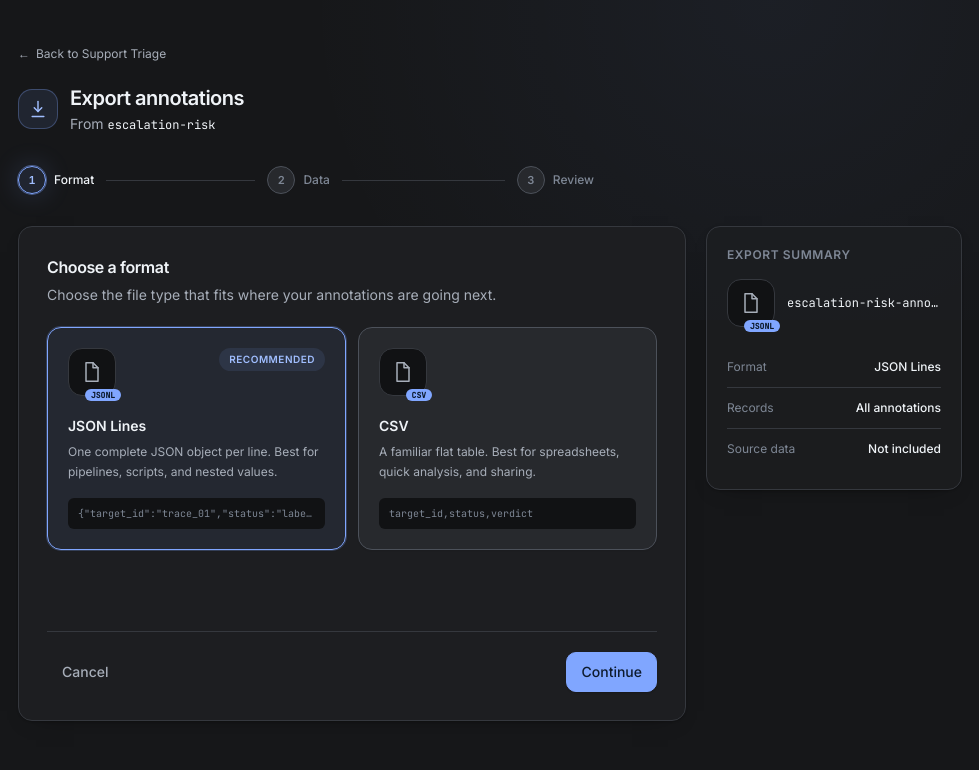
Test: ExportWizard › sends the reviewed choices and starts a named download
The width and height of the screenshot is (979, 770).
Expected: the heading "Export annotations" is shown, [70,84,244,112]
Click the radio button labelled "csv": (403, 372) [358,327,657,550]
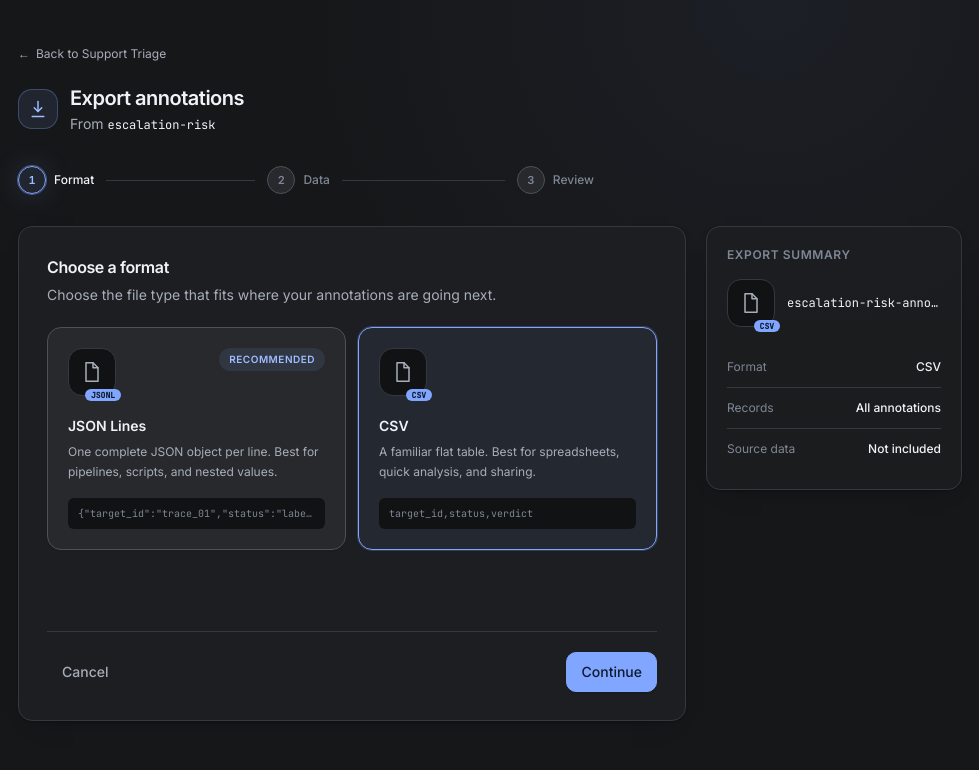
Click the button "Continue": (612, 672) [566,652,657,692]
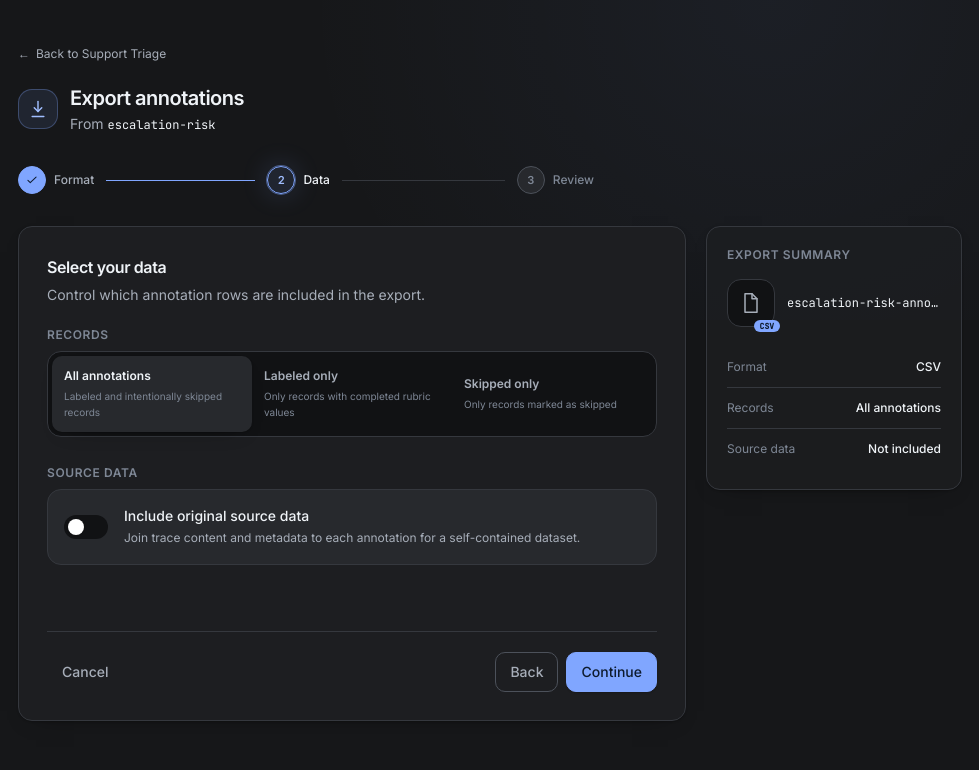
Click the radio button labelled "Labeled only Only records with completed rubric values": (352, 394) [252,356,452,432]
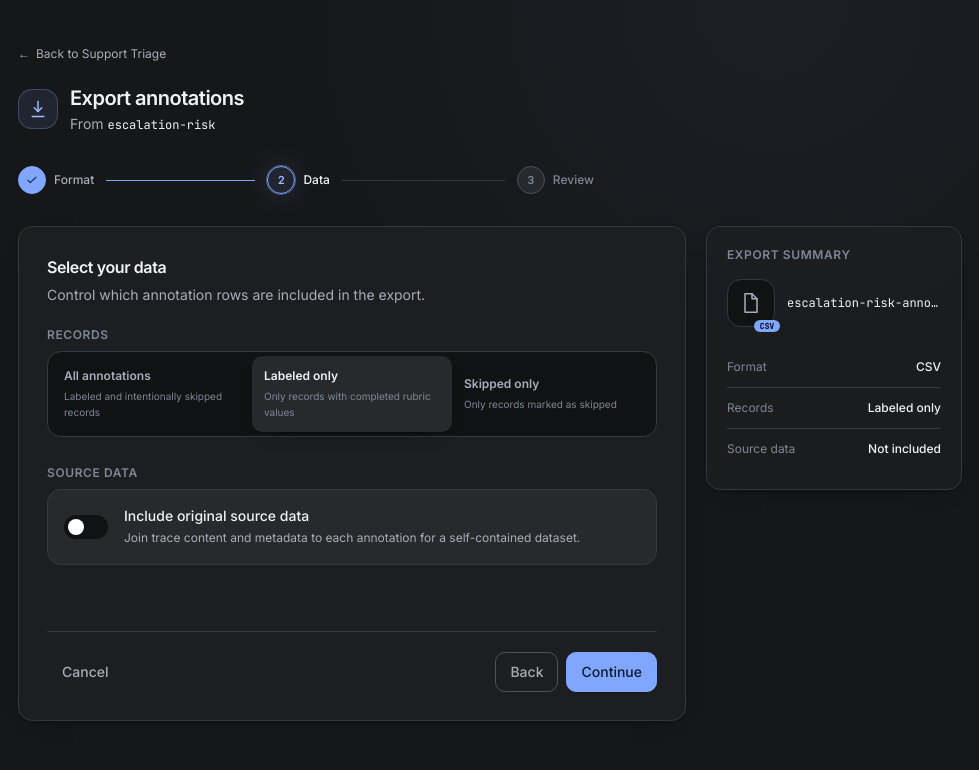
Click the switch labelled "Include original source data": (352, 527) [47,489,657,565]
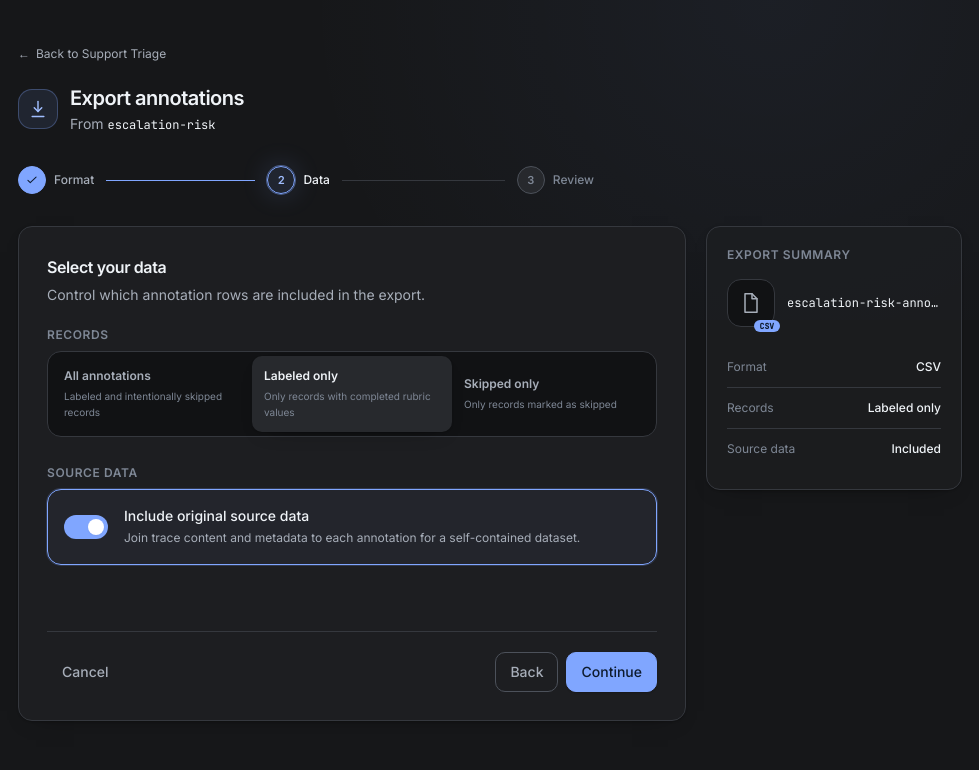
Click the button "Continue": (612, 672) [566,652,657,692]
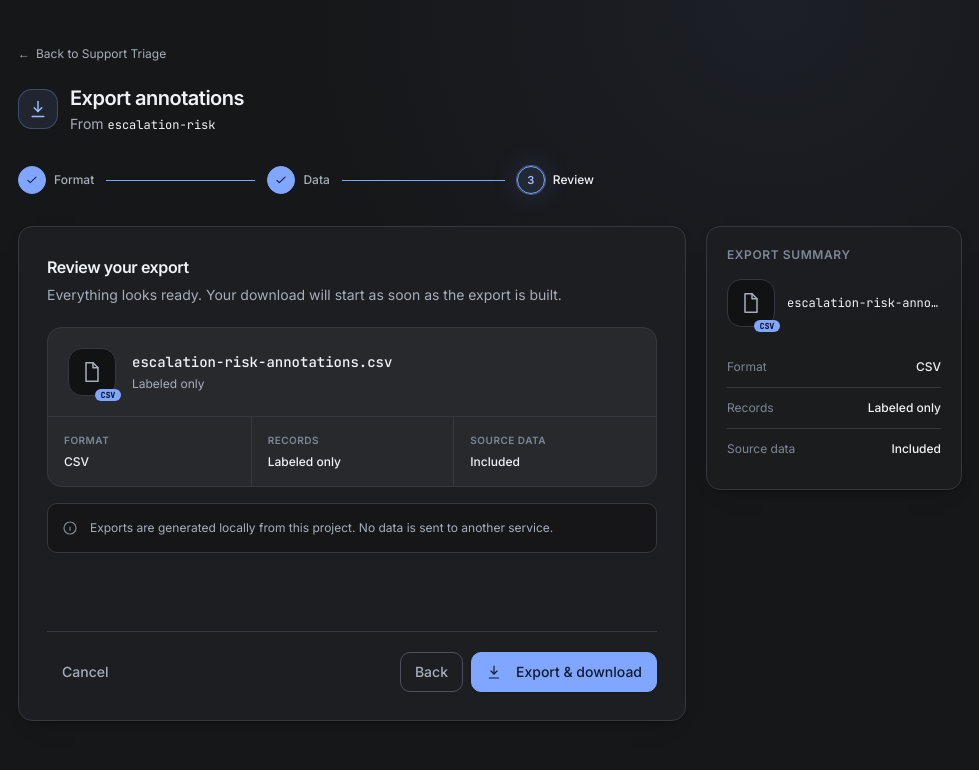
Now the text "escalation-risk-annotations.csv" is shown 2 times, box [132,352,392,372]; [787,295,941,311]
Click the button "Export & download": (564, 672) [471,652,657,692]
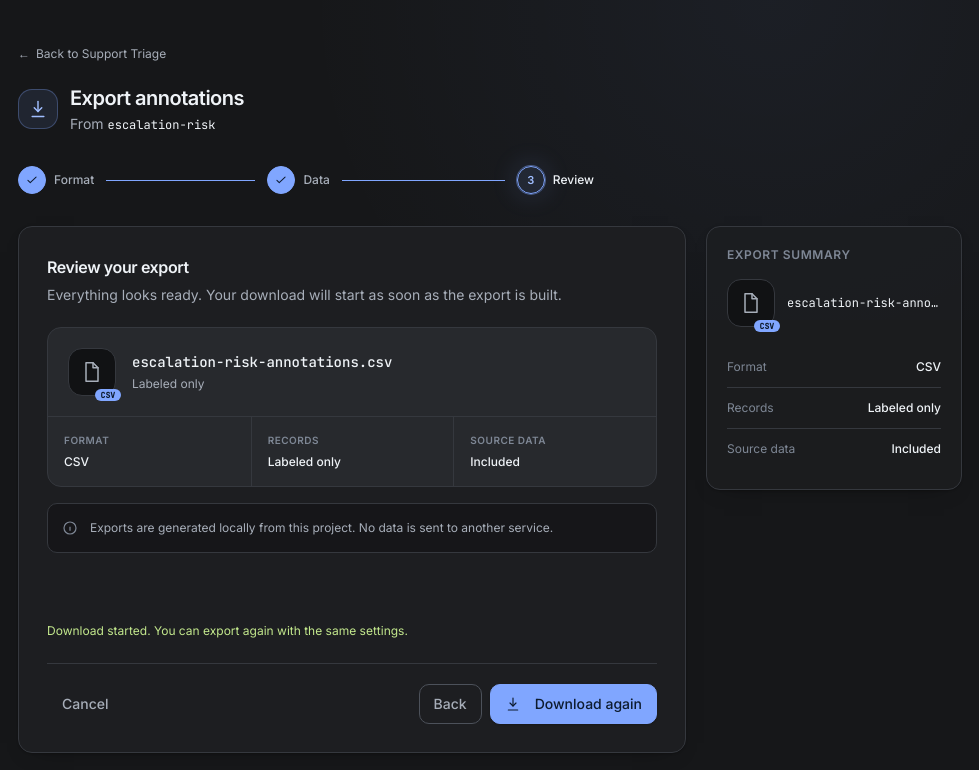
Now the text "Download started. You can export again with the same settings." is shown, box [47,623,408,638]
